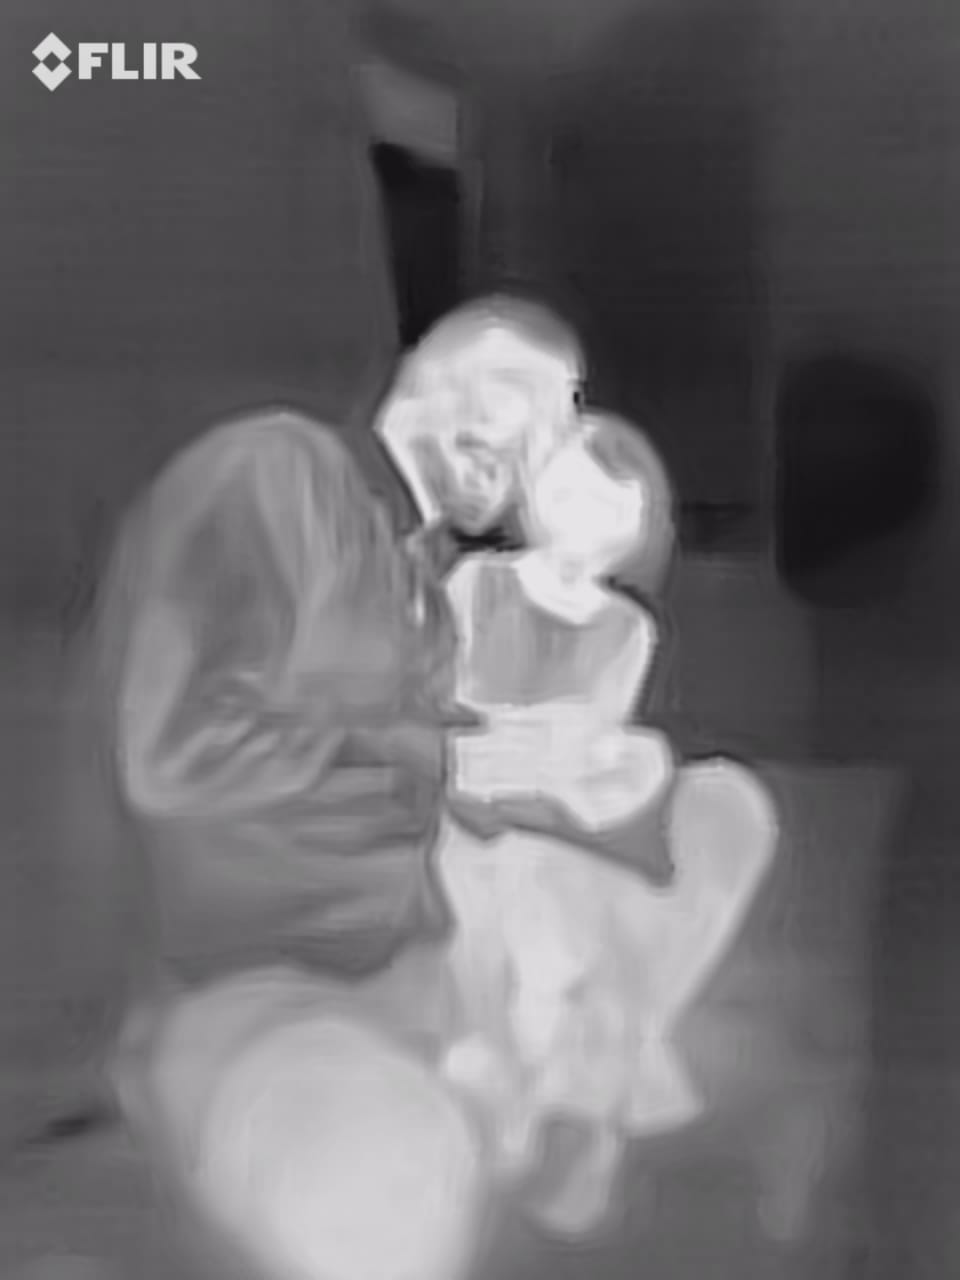head: (376, 269, 583, 552), (517, 413, 663, 611)
